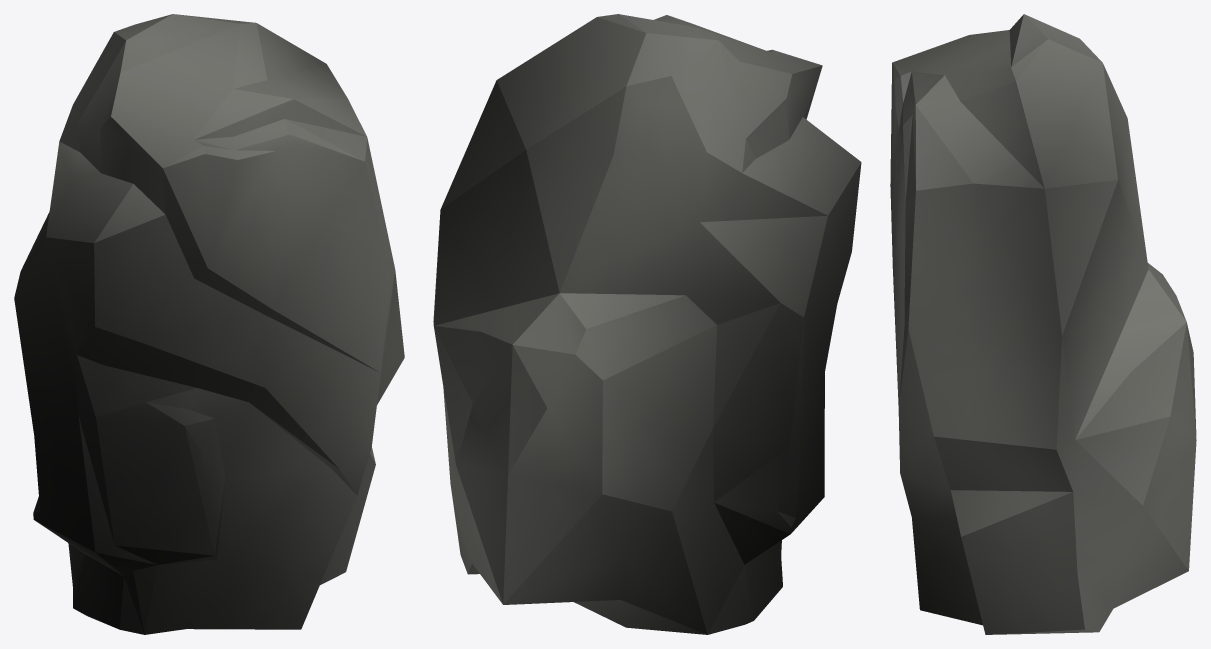
The model's file is Terrain_Rock_1.fbx.
3 views of the same model, side by side, from view 1: azimuth 30°, elevation 25°; view 2: azimuth 150°, elevation 25°; view 3: azimuth 270°, elevation 25° (orthographic). The views are drawn at different scales.
Visible parts, largest first — view 1: terrain_mountain_430_LOD0; view 2: terrain_mountain_430_LOD0; view 3: terrain_mountain_430_LOD0.
Part boxes in pixels (bbox=[...]): terrain_mountain_430_LOD0: bbox=[14, 14, 404, 634]; terrain_mountain_430_LOD0: bbox=[433, 14, 861, 634]; terrain_mountain_430_LOD0: bbox=[890, 14, 1196, 634].
Bounding box in the file's own units: 155 × 239 × 120.
Materials: 1 (1 with a texture image).
